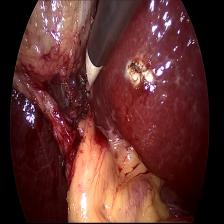Hook: (81, 53, 104, 100)
